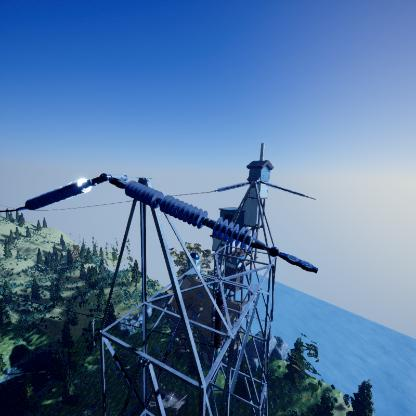insulator: (125, 179, 258, 249), (25, 178, 93, 211), (263, 181, 308, 201), (216, 179, 256, 190)
